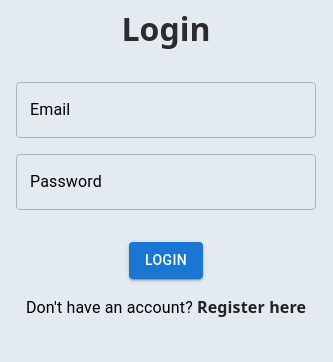
Test: login › login function › with failure › should return error
In the field labelled "Email": (166, 110) [16, 82, 316, 138], type "johnny@email.com"
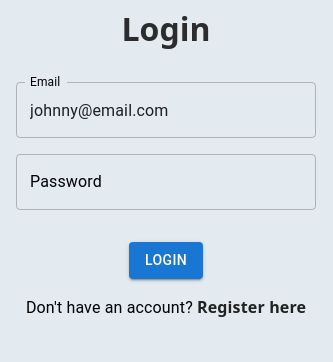
In the password field labelled "Password": (166, 182) [16, 154, 316, 210], type "hexagon"
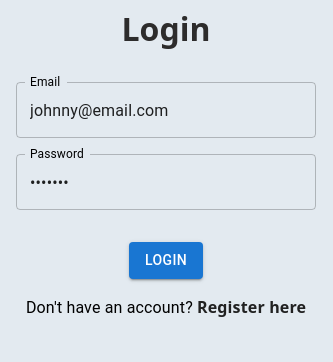
Click the button: (166, 260) [129, 242, 203, 278]
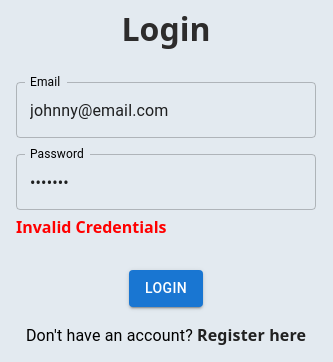
Result: the text "Invalid Credentials" is shown at [16, 216, 167, 238]
